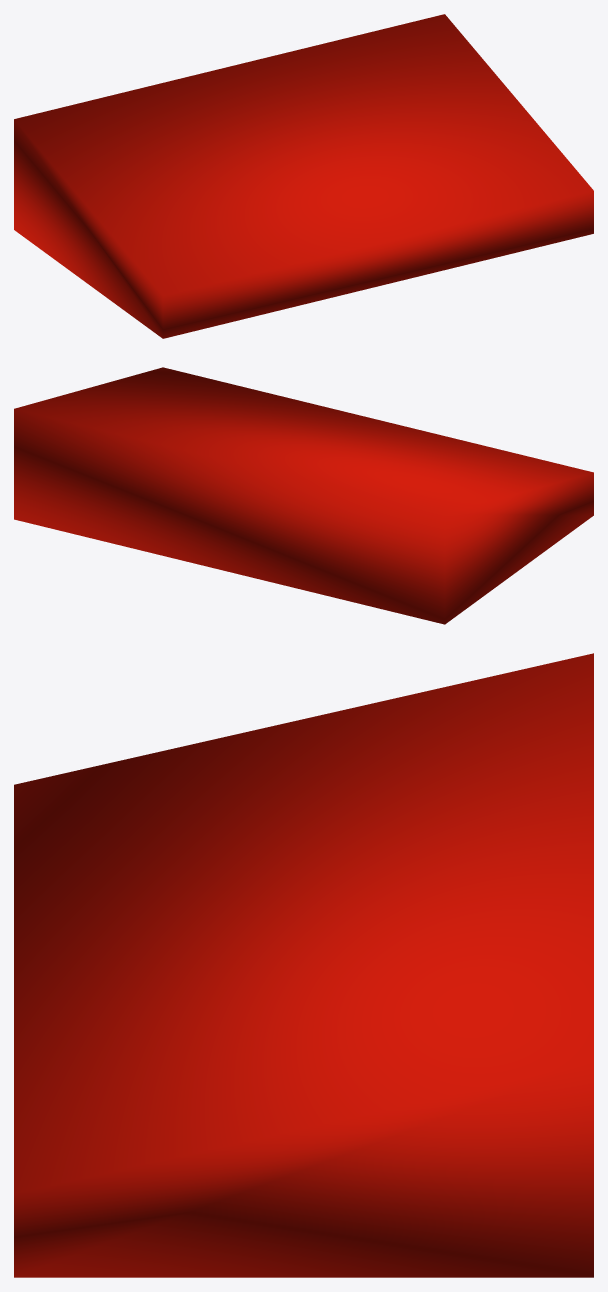
The model's file is UCX_panel_2.fbx.
3 renders of one model, top to bottom at view 1: azimuth 30°, elevation 25°; view 2: azimuth 150°, elevation 25°; view 3: azimuth 270°, elevation 25°, orthographic. The views are drawn at different scales.
Parts seen in each view (by area): view 1: UCX_panel_2; view 2: UCX_panel_2; view 3: UCX_panel_2.
Boxes of the visible parts, x1,y1,x2,y2 form: UCX_panel_2: [14, 14, 593, 338]; UCX_panel_2: [14, 367, 593, 624]; UCX_panel_2: [14, 653, 593, 1277].
Bounding box in the file's own units: 1 × 0.2454 × 0.5992.
